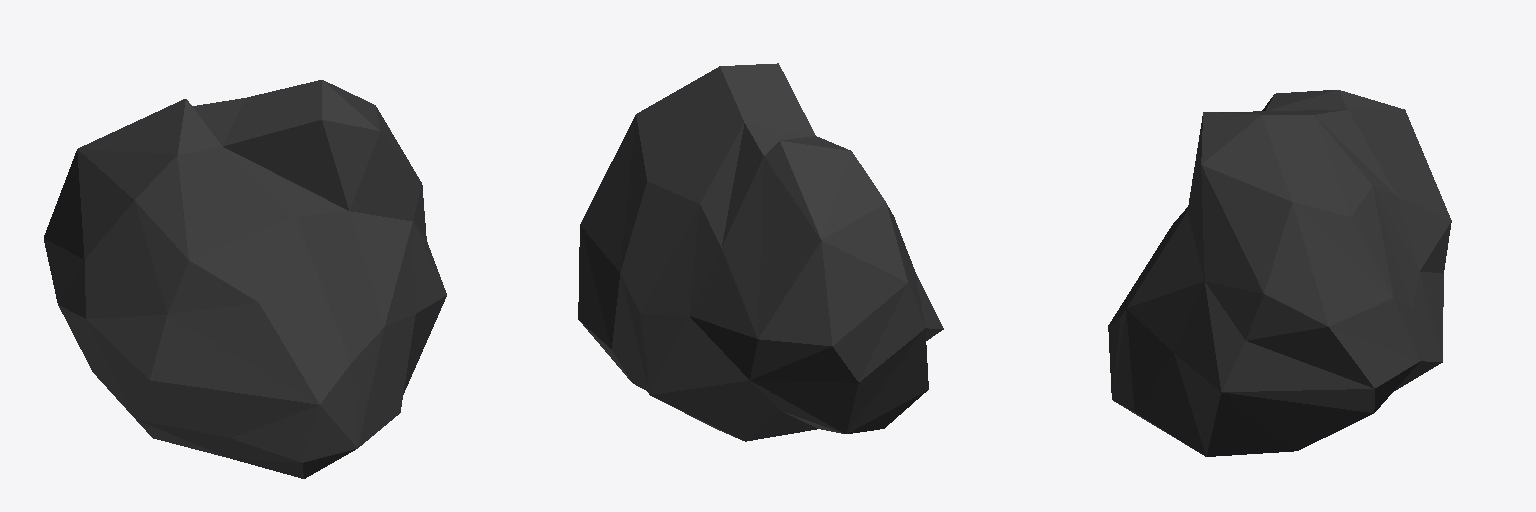
Rendered from Ast4.obj.
3 renders of one model, left to right at view 1: azimuth 30°, elevation 25°; view 2: azimuth 150°, elevation 25°; view 3: azimuth 270°, elevation 25°, orthographic.
Visible parts, largest first — view 1: Asteroid_2.002; view 2: Asteroid_2.002; view 3: Asteroid_2.002.
Boxes of the visible parts, x1=… form: Asteroid_2.002: x1=44, y1=80, x2=446, y2=478; Asteroid_2.002: x1=578, y1=63, x2=943, y2=441; Asteroid_2.002: x1=1108, y1=90, x2=1451, y2=456.
Bounding box in the file's own units: 74.93 × 73.98 × 68.1.